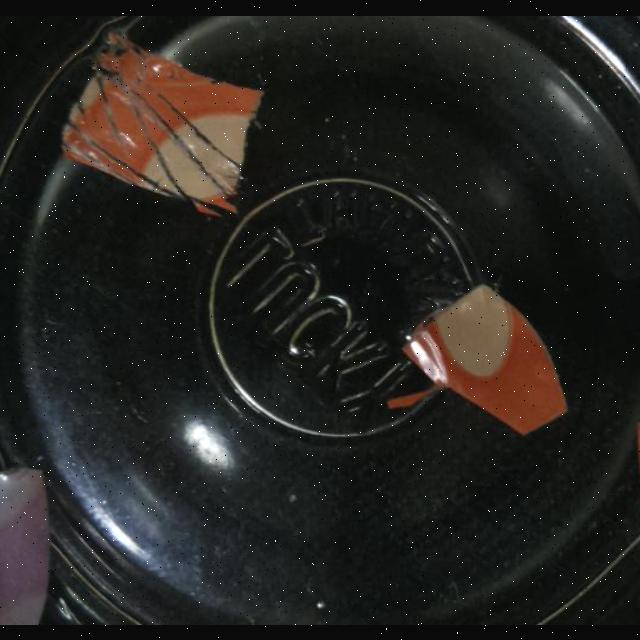Fragment: (68, 41, 260, 213), (403, 282, 569, 434), (0, 468, 50, 624), (636, 426, 640, 510)
